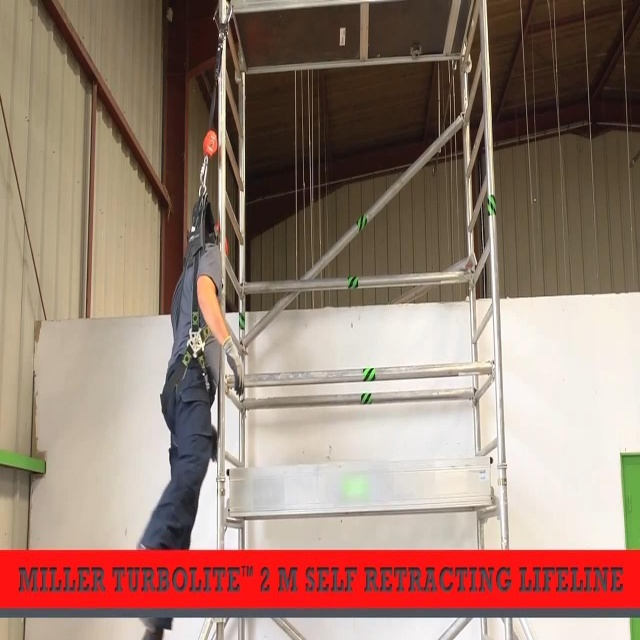Arnes_seguridad: (152, 120, 230, 481)
